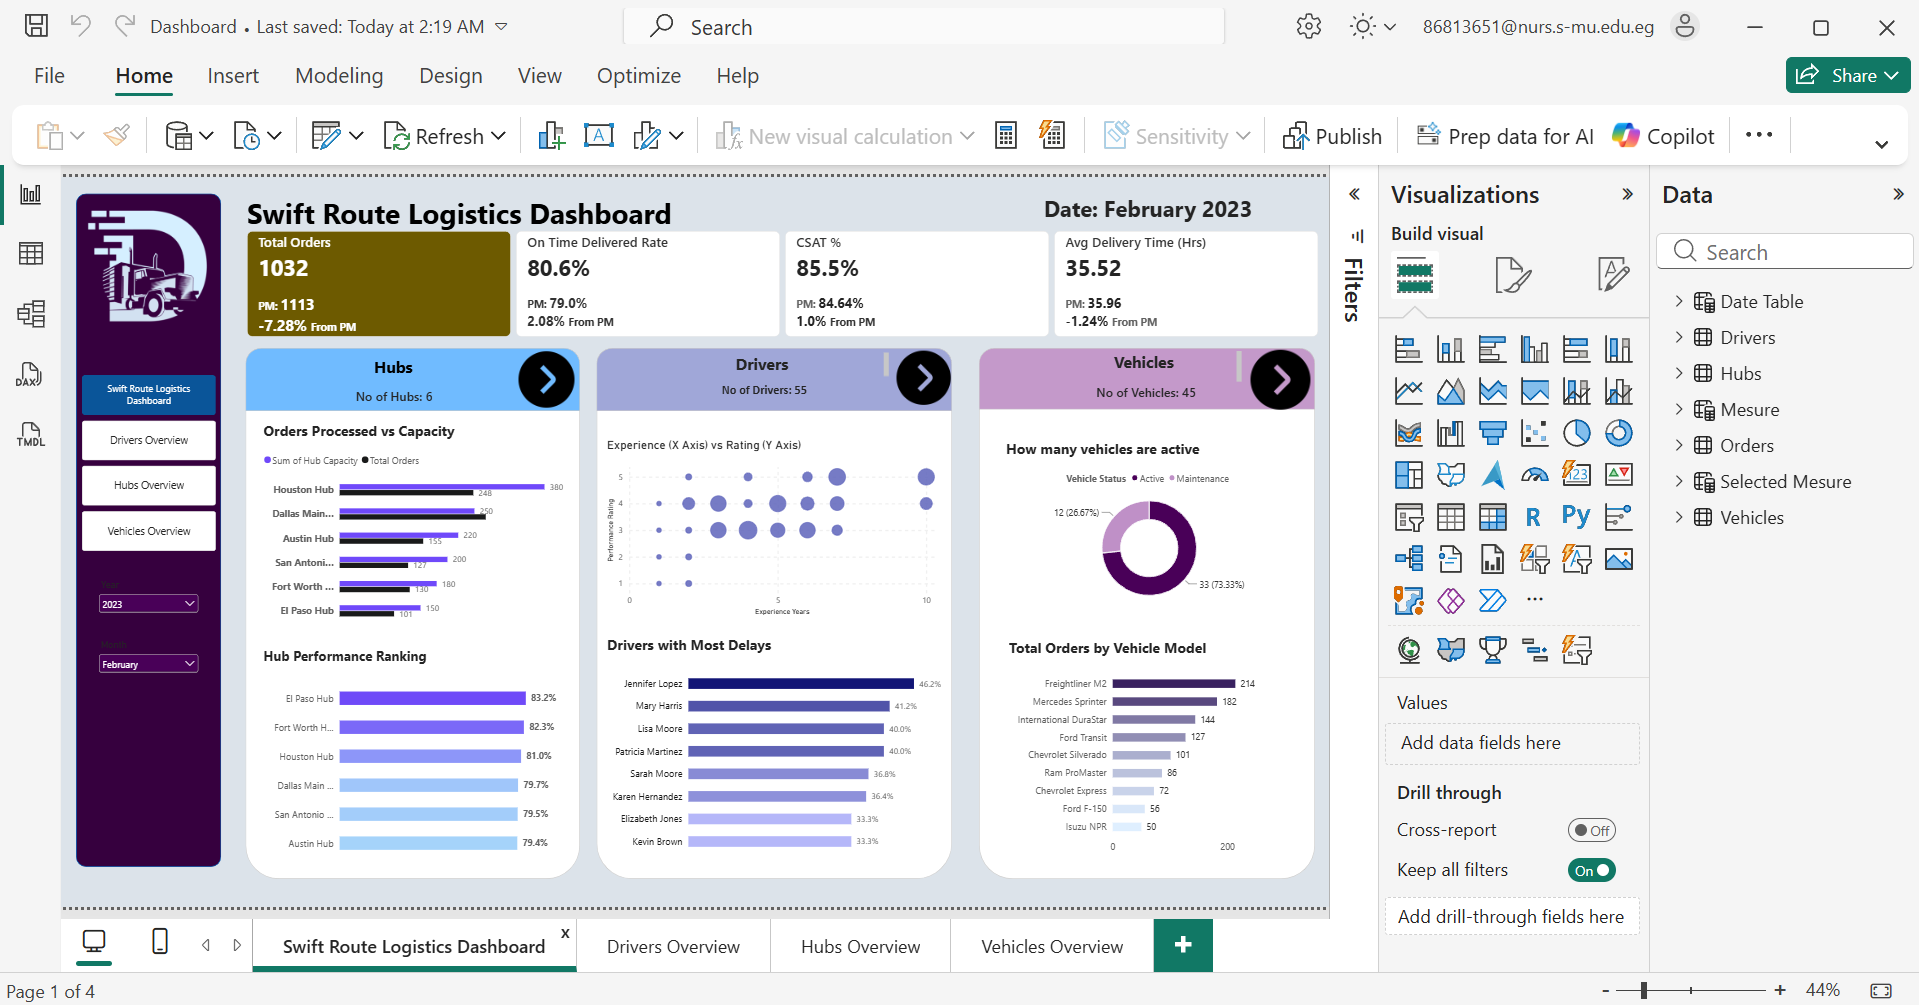

Layout of this report page (visuals, bound fields, positions):
{"tool":"powerbi","page":{"name":"Swift Route Logistics Dashboard","canvas":[1932,1111],"ordinal":0},"visuals":[{"type":"textbox","box":[282.4,25.7,727.4,57],"z":0},{"type":"cardVisual","fields":{"Data":["Orders.Total Orders","Orders.On Time Delivered Rate","Orders.CAST %","Orders.Avg Delivery Time (Hrs)"]},"box":[283.9,81.8,1635.3,161.3],"z":1000},{"type":"cardVisual","fields":{"Data":["Orders.Year Month Title"]},"box":[1424.1,25,465.6,45.4],"z":2000},{"type":"image","box":[1303.7,288.5,54.5,63.6],"z":3000},{"type":"shape","box":[815.9,260.5,541.7,809.1],"z":4000},{"type":"shape","box":[815.9,260.5,541.7,96],"z":5000},{"type":"cardVisual","fields":{"Data":["Drivers.No of Drivers"]},"box":[887.1,302.4,370.8,45.6],"z":6000},{"type":"textbox","box":[881.4,268.1,379.4,42.8],"z":7000},{"type":"scatterChart","title":"Experience (X Axis) vs Rating (Y Axis)","fields":{"Size":["Sum(Drivers.Experience Years)"],"X":["Drivers.Experience Years"],"Y":["Drivers.Performance Rating"]},"box":[815.9,384,539.4,299.4],"z":8000},{"type":"barChart","title":"Drivers with Most Delays","fields":{"Category":["Orders.Driver Name"],"Y":["Orders.Delayed Delivery Rate"]},"box":[815.9,683.4,541.7,368],"z":9000},{"type":"image","box":[1272.2,259.6,82.7,91.3],"z":10000},{"type":"shape","box":[281.1,260.5,509.7,809.1],"z":11000},{"type":"shape","box":[281.1,260.5,509.7,96],"z":12000},{"type":"cardVisual","fields":{"Data":["Hubs.No of Hubs"]},"box":[373.7,310.9,271,45.6],"z":13000},{"type":"clusteredBarChart","title":" Orders Processed vs Capacity","fields":{"Category":["Hubs.HubName"],"Y":["Sum(Hubs.Hub Capacity)","Orders.Total Orders"]},"box":[292.5,356.5,489.1,345.1],"z":14000},{"type":"barChart","title":"Hub Performance Ranking","fields":{"Category":["Hubs.HubName"],"Y":["Orders.On Time Delivered Rate"]},"box":[292.5,701.6,489.1,358.8],"z":15000},{"type":"textbox","box":[345.1,271,322.3,45.6],"z":16000},{"type":"image","box":[696,262.4,85.6,91.3],"z":17000},{"type":"shape","box":[1398.7,260.5,512,809.1],"z":18000},{"type":"shape","box":[1398.7,260.5,512,93.7],"z":19000},{"type":"cardVisual","fields":{"Data":["Vehicles.No of Vehicles"]},"box":[1508.9,305.2,290.9,42.8],"z":20000},{"type":"textbox","box":[1508.9,265.3,290.9,48.5],"z":21000},{"type":"donutChart","title":"How many vehicles are active","fields":{"Category":["Vehicles.Vehicle Status"],"Y":["CountNonNull(Vehicles.Vehicle ID)"]},"box":[1423.9,384,468.5,290.3],"z":22000},{"type":"barChart","fields":{"Category":["Vehicles.Vehicle Model"],"Y":["Orders.Total Orders"]},"box":[1428.4,687.9,464,363.4],"z":23000},{"type":"image","box":[1811.3,259.6,91.3,97],"z":24000},{"type":"shape","box":[22.7,25.5,221.1,1026.1],"z":25000},{"type":"slicer","fields":{"Values":["Date Table.Year"]},"box":[52.6,612.5,161.6,90.7],"z":26000},{"type":"slicer","fields":{"Values":["Date Table.Month"]},"box":[52.2,704.1,161.6,73.7],"z":27000},{"type":"pageNavigator","box":[31.8,302.1,204.4,270.3],"z":28000},{"type":"image","box":[22.9,25.1,221.7,235.4],"z":29000}]}

Visuals, with their boxes on the page's 1932x1111 design canvas (x1, y1, x2, y2). These are canvas units, not pixel positions in the 1919x1005 screenshot, which may show the page scaled, cropped or inside an application window:
textbox: crop(282, 26, 1010, 83)
cardVisual - Orders.Total Orders x Orders.On Time Delivered Rate: crop(284, 82, 1919, 243)
cardVisual - Orders.Year Month Title: crop(1424, 25, 1890, 70)
image: crop(1304, 288, 1358, 352)
shape: crop(816, 260, 1358, 1070)
shape: crop(816, 260, 1358, 356)
cardVisual - Drivers.No of Drivers: crop(887, 302, 1258, 348)
textbox: crop(881, 268, 1261, 311)
"Experience (X Axis) vs Rating (Y Axis)" scatterChart: crop(816, 384, 1355, 683)
"Drivers with Most Delays" barChart: crop(816, 683, 1358, 1051)
image: crop(1272, 260, 1355, 351)
shape: crop(281, 260, 791, 1070)
shape: crop(281, 260, 791, 356)
cardVisual - Hubs.No of Hubs: crop(374, 311, 645, 356)
" Orders Processed vs Capacity" clusteredBarChart: crop(292, 356, 782, 702)
"Hub Performance Ranking" barChart: crop(292, 702, 782, 1060)
textbox: crop(345, 271, 667, 317)
image: crop(696, 262, 782, 354)
shape: crop(1399, 260, 1911, 1070)
shape: crop(1399, 260, 1911, 354)
cardVisual - Vehicles.No of Vehicles: crop(1509, 305, 1800, 348)
textbox: crop(1509, 265, 1800, 314)
"How many vehicles are active" donutChart: crop(1424, 384, 1892, 674)
barChart - Vehicles.Vehicle Model x Orders.Total Orders: crop(1428, 688, 1892, 1051)
image: crop(1811, 260, 1903, 357)
shape: crop(23, 26, 244, 1052)
slicer - Date Table.Year: crop(53, 612, 214, 703)
slicer - Date Table.Month: crop(52, 704, 214, 778)
pageNavigator: crop(32, 302, 236, 572)
image: crop(23, 25, 245, 260)
